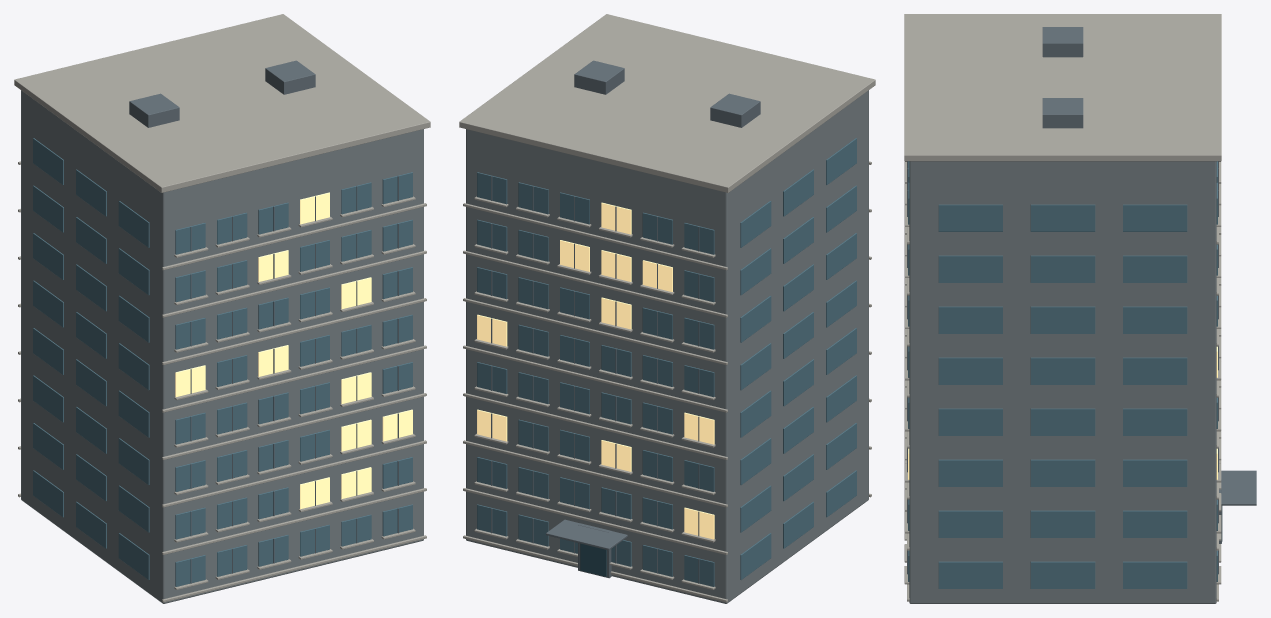
File: OfficeMid.fbx
3 views of the same model, side by side, from view 1: azimuth 30°, elevation 25°; view 2: azimuth 150°, elevation 25°; view 3: azimuth 270°, elevation 25° (orthographic). The views are drawn at different scales.
Visible parts, largest first — view 1: Body.033; view 2: Body.033; view 3: Body.033.
Boxes of the visible parts, bbox=[...] form: Body.033: bbox=[14, 14, 430, 603]; Body.033: bbox=[459, 14, 875, 603]; Body.033: bbox=[904, 14, 1256, 603].
Bounding box in the file's own units: 19.6 × 30.1 × 20.65.
